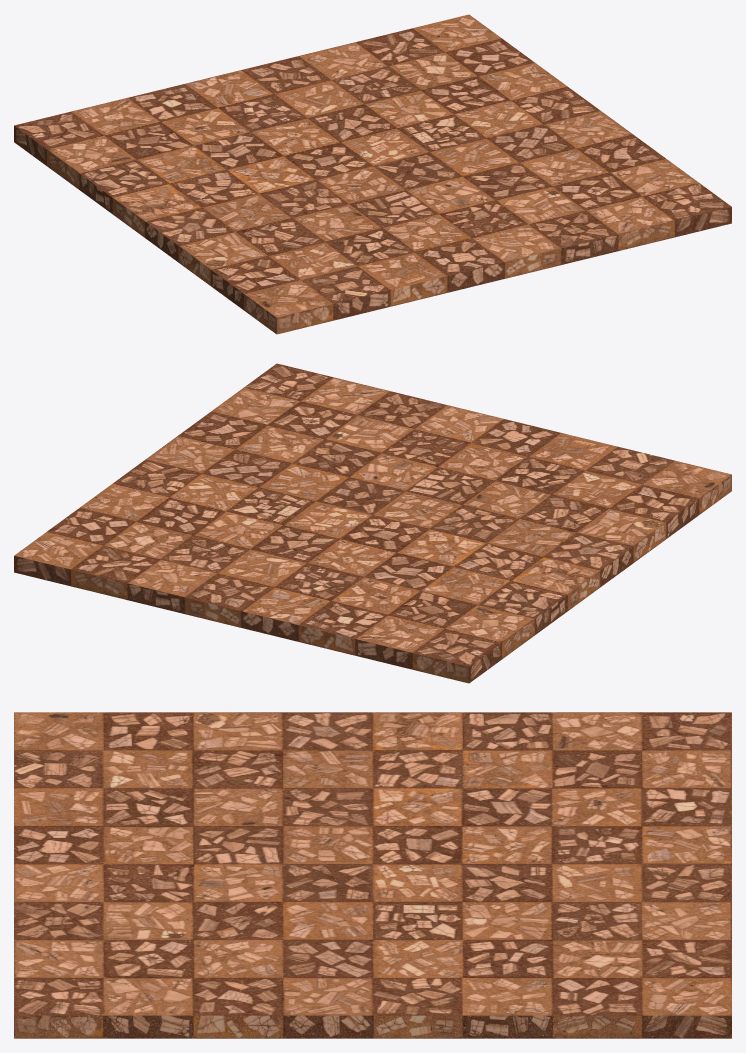
Rendered from infra_tile_t1_mosaic.glb.
3 views of the same model, one above another, from view 1: azimuth 30°, elevation 25°; view 2: azimuth 150°, elevation 25°; view 3: azimuth 270°, elevation 25° (orthographic). The views are drawn at different scales.
Parts seen in each view (by area): view 1: mosaic; view 2: mosaic; view 3: mosaic.
Part boxes in pixels (box(x1,y1,x2,y2)): mosaic: box(14, 14, 731, 334); mosaic: box(14, 363, 731, 683); mosaic: box(14, 712, 731, 1038).
Size of the model in its own units: 2 by 0.07 by 2.
1 material, 1 textured.
